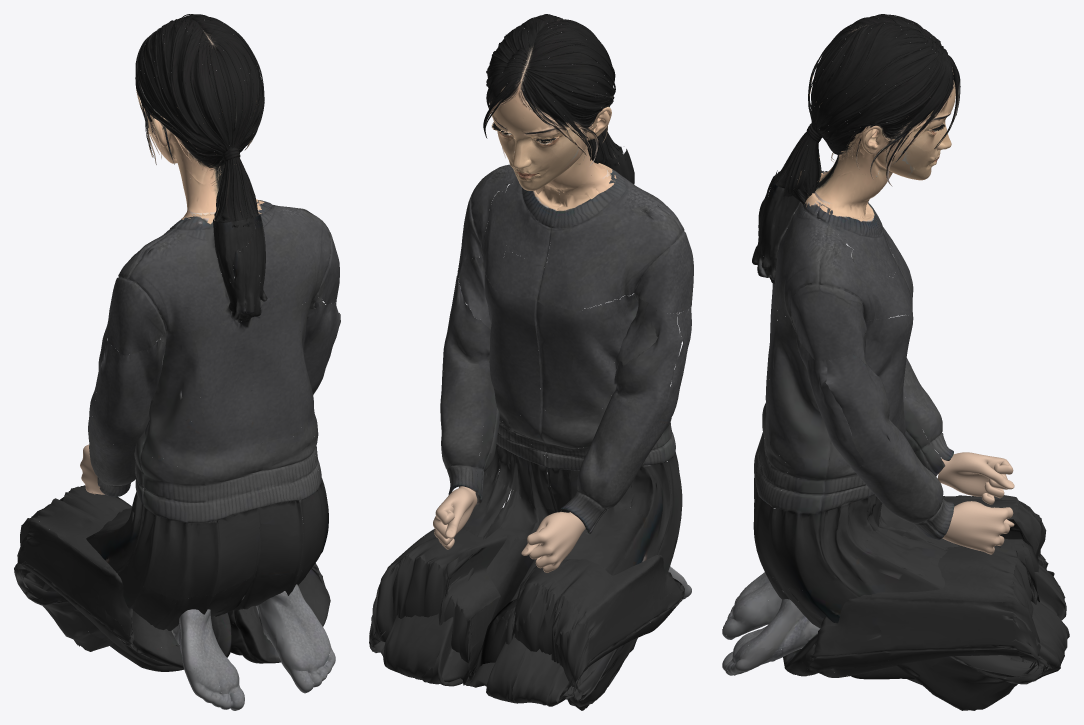
Rendered from mio_seiza.glb.
The picture shows the model from 3 angles, left to right: view 1: azimuth 30°, elevation 25°; view 2: azimuth 150°, elevation 25°; view 3: azimuth 270°, elevation 25°; orthographic projection.
Visible parts, largest first — view 1: mio_body, mio_hair, mio_hands; view 2: mio_body, mio_hair, mio_hands, mio_head; view 3: mio_body, mio_hair, mio_hands, mio_head.
Part boxes in pixels (box(x1,y1,x2,y2)): mio_body: box(14, 200, 340, 710); mio_hair: box(135, 14, 264, 228); mio_hands: box(80, 444, 104, 494); mio_body: box(369, 149, 693, 710); mio_hair: box(483, 14, 625, 199); mio_hands: box(433, 486, 585, 572); mio_head: box(491, 115, 598, 189); mio_body: box(722, 170, 1069, 710); mio_hair: box(771, 14, 960, 218); mio_hands: box(937, 452, 1014, 554); mio_head: box(809, 75, 951, 179).
Bounding box in the file's own units: 0.4006 × 1.07 × 0.5131.
5 materials, 4 textured.
